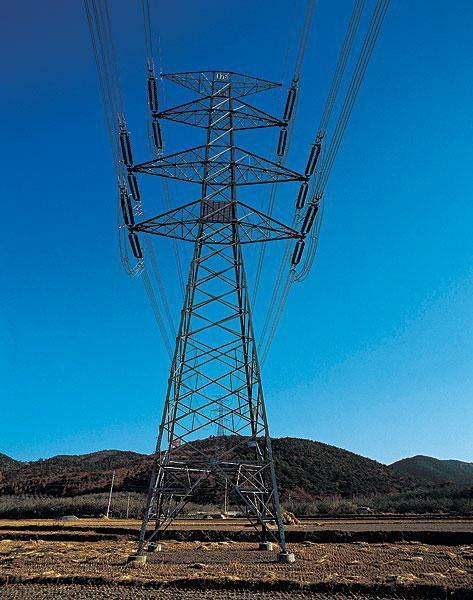power_tower: (116, 57, 326, 554)
